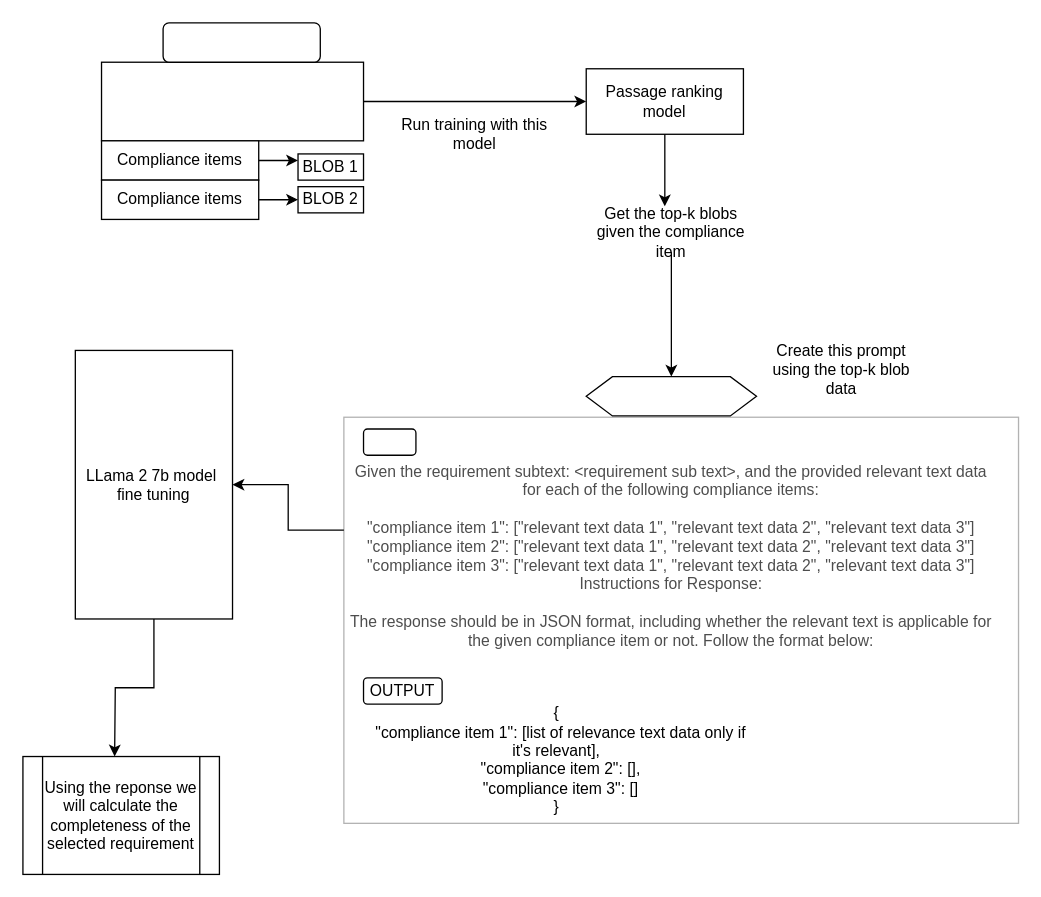
The diagram is 1041 pixels wide and 897 high, and some of its shapes have lost their labels. Each missing label, with the centre of its shape:
Annotation database: (x=241, y=42)
INPUT: (x=389, y=441)
Requirement sub section text: (x=232, y=101)
Training data for finetuning: (x=671, y=395)
